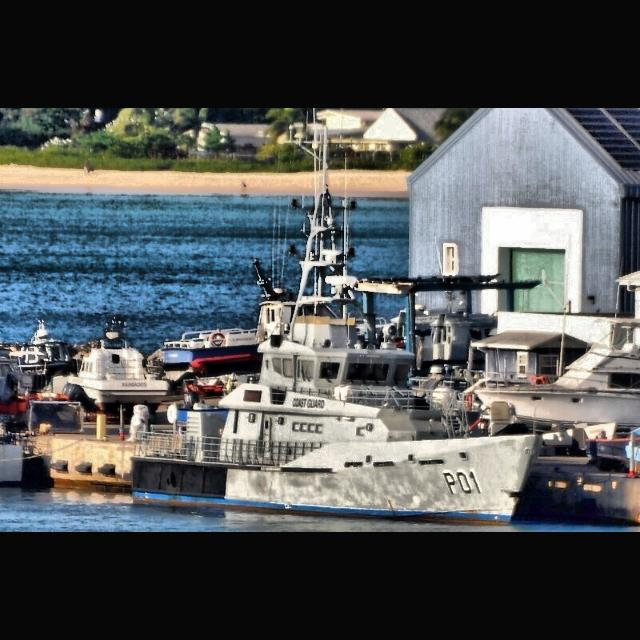patrol_vessel: (126, 276, 546, 530)
